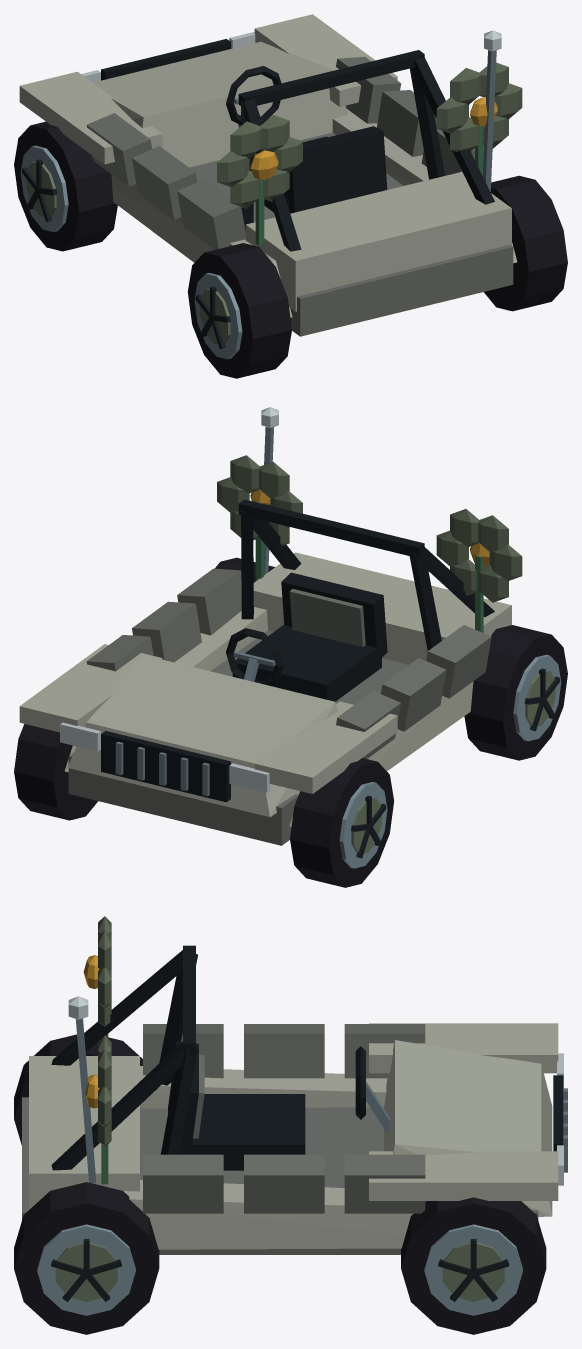
Rendered from kart.glb.
3 views of the same model, one above another, from view 1: azimuth 30°, elevation 25°; view 2: azimuth 150°, elevation 25°; view 3: azimuth 270°, elevation 25° (orthographic). The views are drawn at different scales.
Parts seen in each view (by area): view 1: identity-jeep-jeep-offroad-frame, identity-jeep-motif-armor, wheel-rear-left, identity-jeep-motif-flowers, wheel-front-left, identity-jeep-driver-cockpit, wheel-rear-right, identity-jeep-motif-antenna; view 2: identity-jeep-jeep-offroad-frame, identity-jeep-motif-armor, identity-jeep-driver-cockpit, wheel-rear-left, wheel-front-left, identity-jeep-motif-flowers, wheel-front-right, identity-jeep-motif-antenna; view 3: identity-jeep-jeep-offroad-frame, identity-jeep-motif-armor, wheel-rear-right, wheel-front-right, identity-jeep-driver-cockpit, identity-jeep-motif-flowers, identity-jeep-motif-antenna, wheel-rear-left.
Boxes of the visible parts, bbox=[...] form: identity-jeep-jeep-offroad-frame: bbox=[19, 14, 517, 336]; identity-jeep-motif-armor: bbox=[86, 57, 483, 249]; wheel-rear-left: bbox=[187, 243, 291, 378]; identity-jeep-motif-flowers: bbox=[217, 62, 522, 245]; wheel-front-left: bbox=[14, 121, 117, 251]; identity-jeep-driver-cockpit: bbox=[226, 66, 387, 213]; wheel-rear-right: bbox=[484, 175, 567, 311]; identity-jeep-motif-antenna: bbox=[482, 30, 501, 191]; identity-jeep-jeep-offroad-frame: bbox=[19, 499, 511, 845]; identity-jeep-motif-armor: bbox=[86, 568, 491, 758]; identity-jeep-driver-cockpit: bbox=[226, 572, 387, 701]; wheel-rear-left: bbox=[464, 625, 567, 760]; wheel-front-left: bbox=[290, 758, 393, 887]; identity-jeep-motif-flowers: bbox=[217, 455, 522, 632]; wheel-front-right: bbox=[14, 724, 97, 820]; identity-jeep-motif-antenna: bbox=[261, 407, 278, 574]; identity-jeep-jeep-offroad-frame: bbox=[22, 945, 567, 1254]; identity-jeep-motif-armor: bbox=[143, 1024, 425, 1213]; wheel-rear-right: bbox=[14, 1182, 159, 1334]; wheel-front-right: bbox=[401, 1197, 546, 1334]; identity-jeep-driver-cockpit: bbox=[168, 1041, 389, 1170]; identity-jeep-motif-flowers: bbox=[83, 916, 111, 1184]; identity-jeep-motif-antenna: bbox=[68, 996, 95, 1183]; wheel-rear-left: bbox=[14, 1034, 142, 1145].
Bounding box in the file's own units: 2.13 × 1.72 × 2.75.
